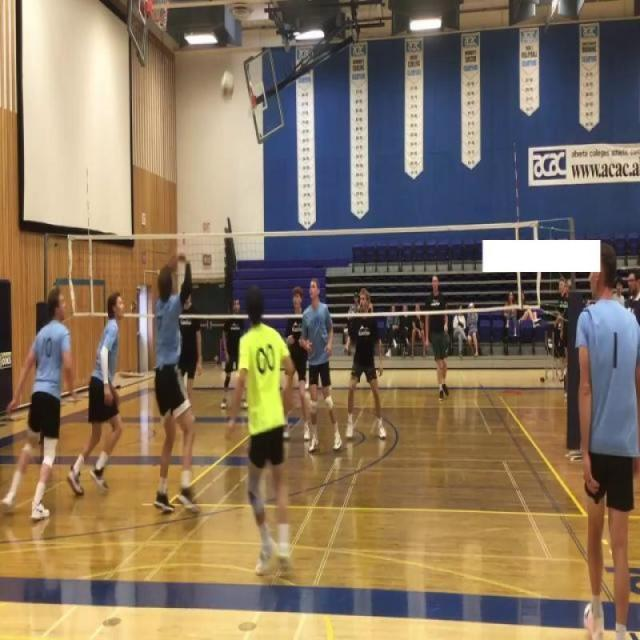volleyball: (219, 70, 236, 103)
